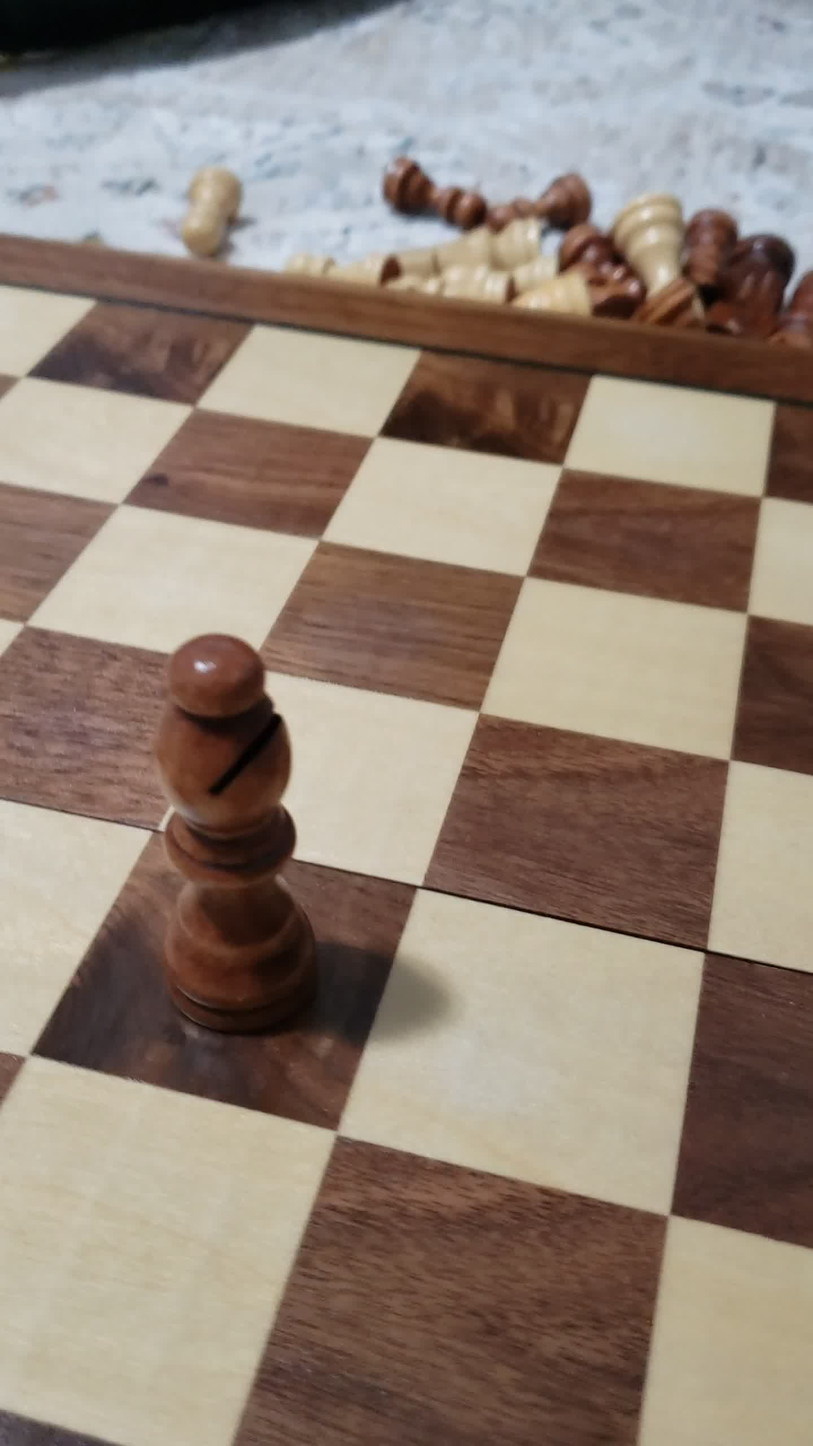black-bishop: (116, 622, 349, 1080)
